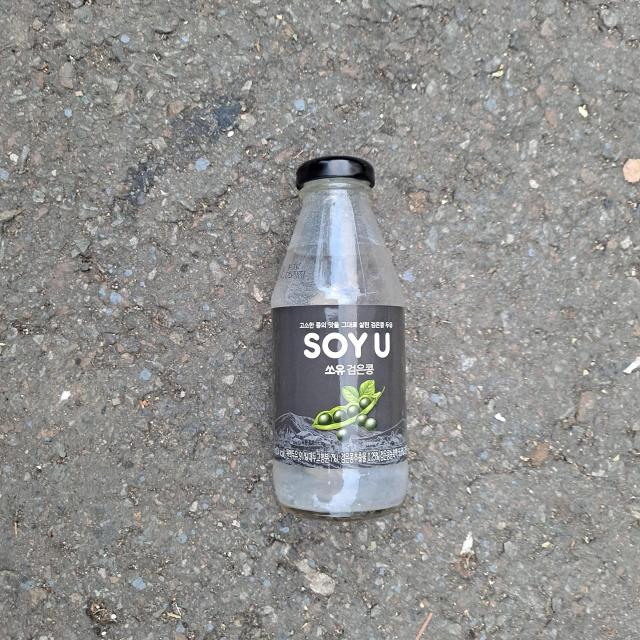glass: (271, 155, 409, 520)
